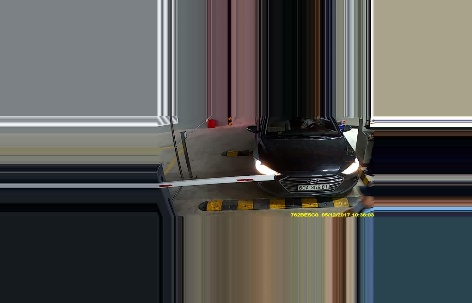plate: (297, 182, 329, 192)
